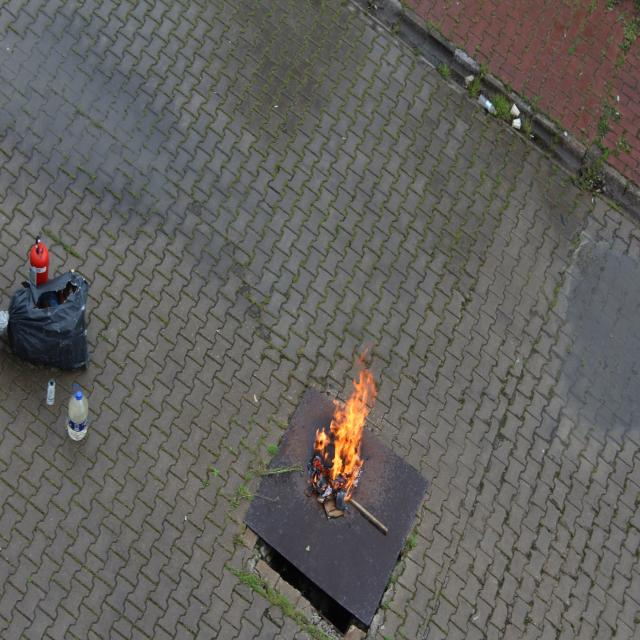fire: (304, 355, 375, 517)
